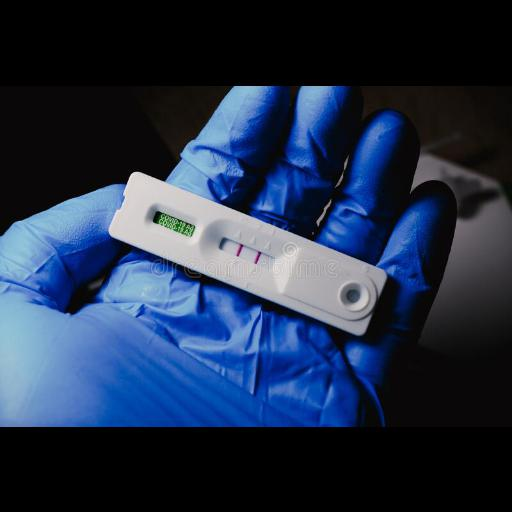Pos: (107, 167, 389, 337)
